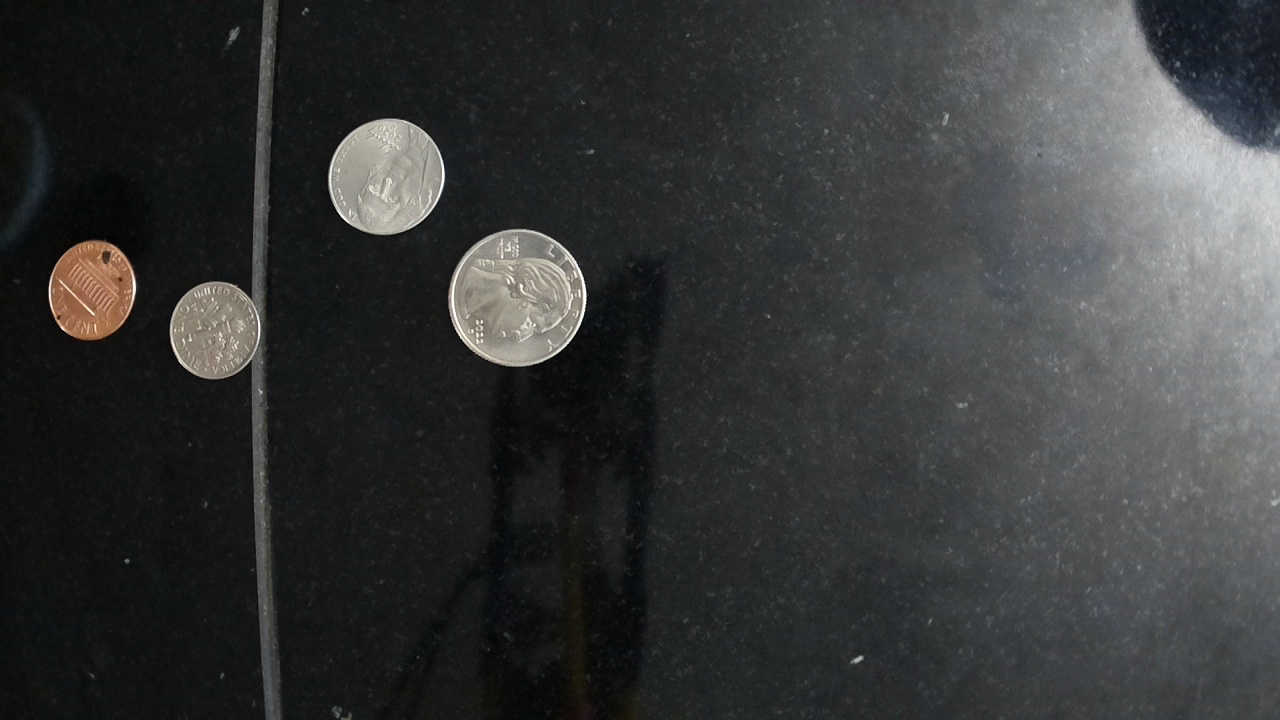dime: (164, 278, 264, 382)
nickel: (322, 110, 448, 242)
penny: (46, 236, 138, 344)
quarter: (448, 226, 592, 370)
